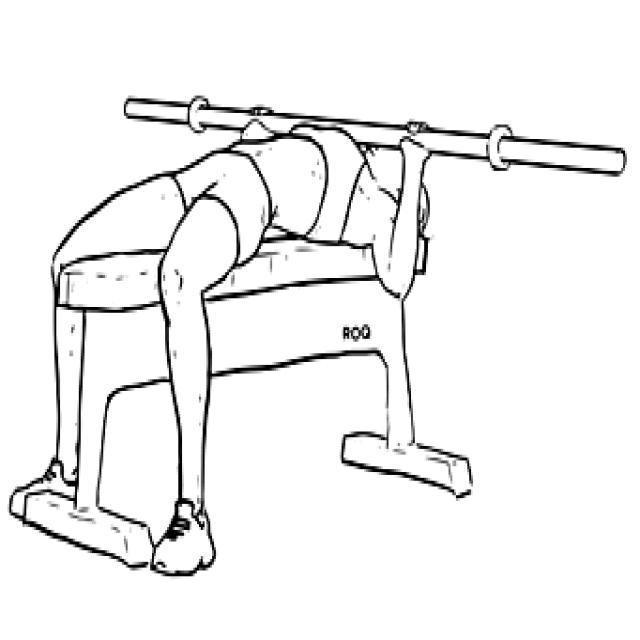bench: (2, 61, 640, 640)
